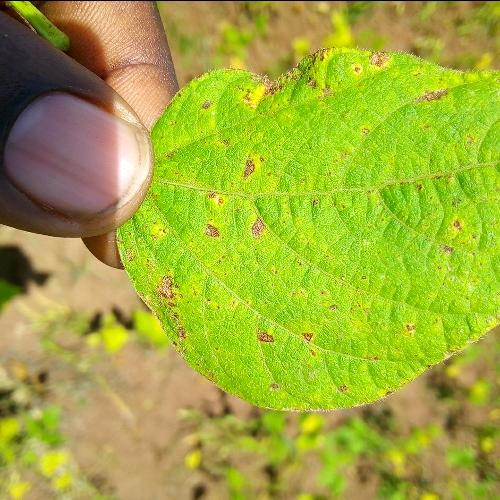hawar: (96, 24, 460, 207)
